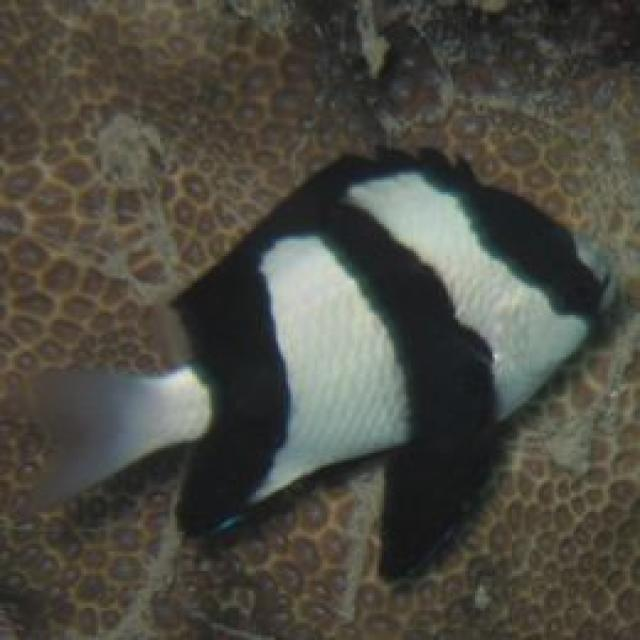ThreeStripedDamselfish: (32, 148, 603, 578)
